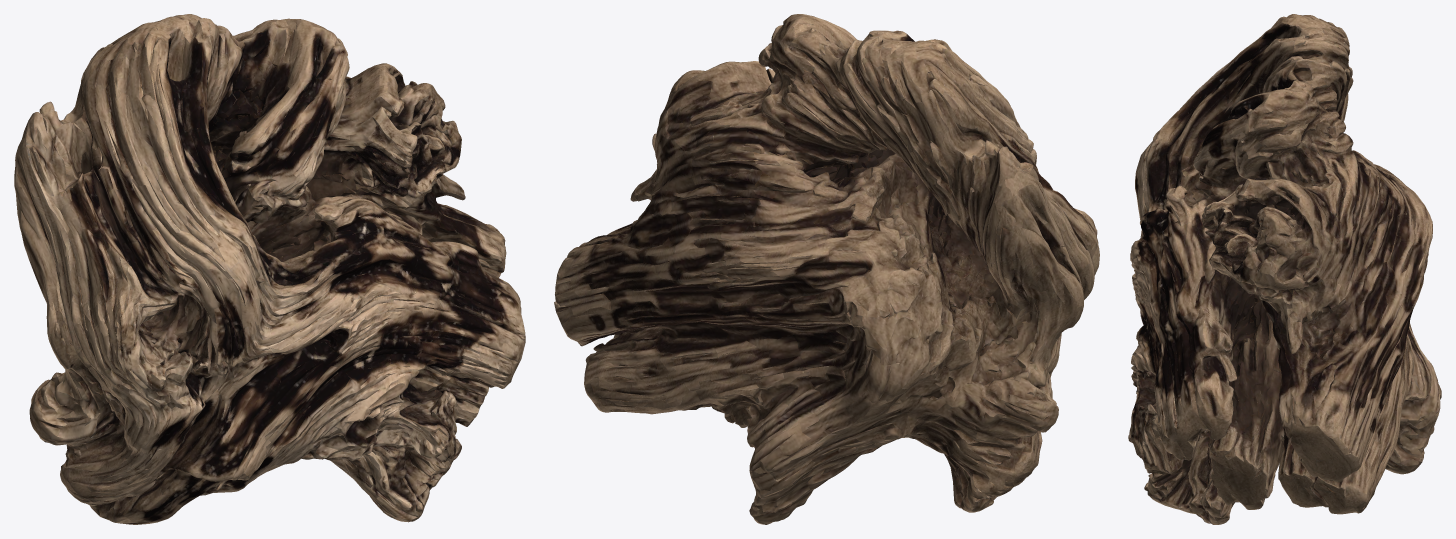
File: oud.glb
The picture shows the model from 3 angles, left to right: view 1: azimuth 30°, elevation 25°; view 2: azimuth 150°, elevation 25°; view 3: azimuth 270°, elevation 25°; orthographic projection. The views are drawn at different scales.
Parts seen in each view (by area): view 1: Mesh_0; view 2: Mesh_0; view 3: Mesh_0.
Part boxes in pixels (x1,y1,x2,y2): Mesh_0: (14, 14, 525, 524); Mesh_0: (554, 14, 1099, 524); Mesh_0: (1128, 14, 1441, 524).
Size of the model in its own units: 1.9 by 1.77 by 1.21.
Materials: 1 (1 with a texture image).
